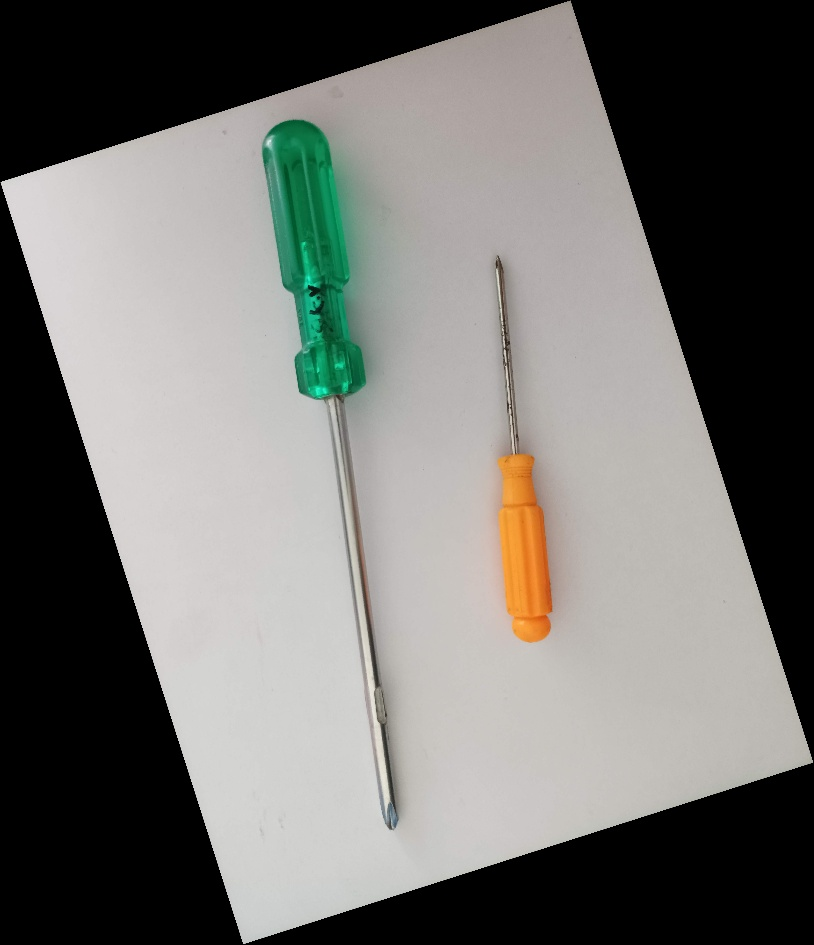screwdriver: (258, 114, 403, 835), (490, 247, 557, 647)
